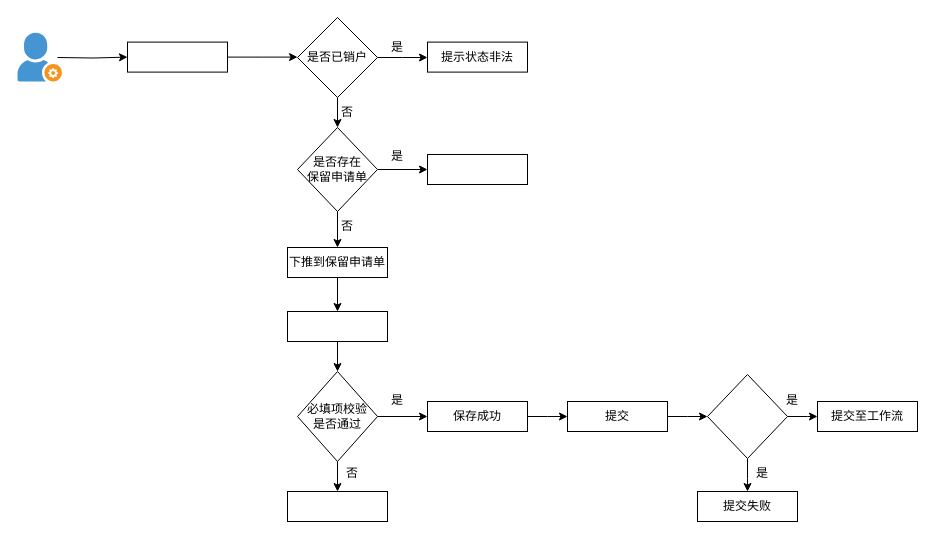
Some shapes in this 935 by 539 pixel diagram are drawn without their labels. The box of each missing label's shape, as (x1, y1, x2, y2) in pixels:
保存: (286, 310, 388, 342)
保存失败: (286, 490, 388, 522)
发起保留申请: (126, 41, 228, 72)
提示已存在 保留申请单: (426, 154, 528, 184)
销户日期 是否在2年内: (706, 374, 788, 458)
